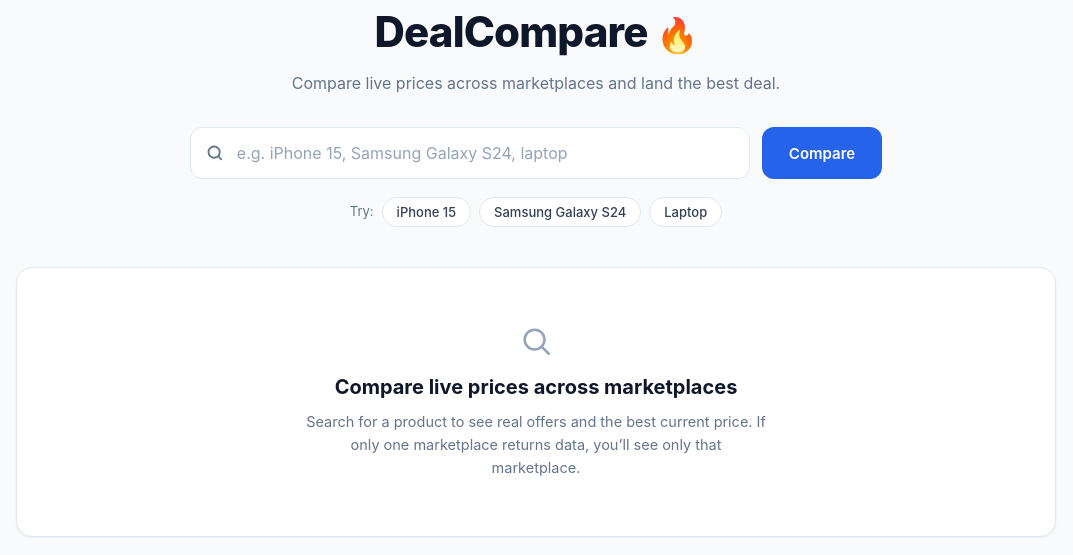
Scenario: Home results experience › shows the error state when the API request fails
Step 1. Type "iphone" into the field named "Search products" → (470, 153), box [190, 127, 750, 179]
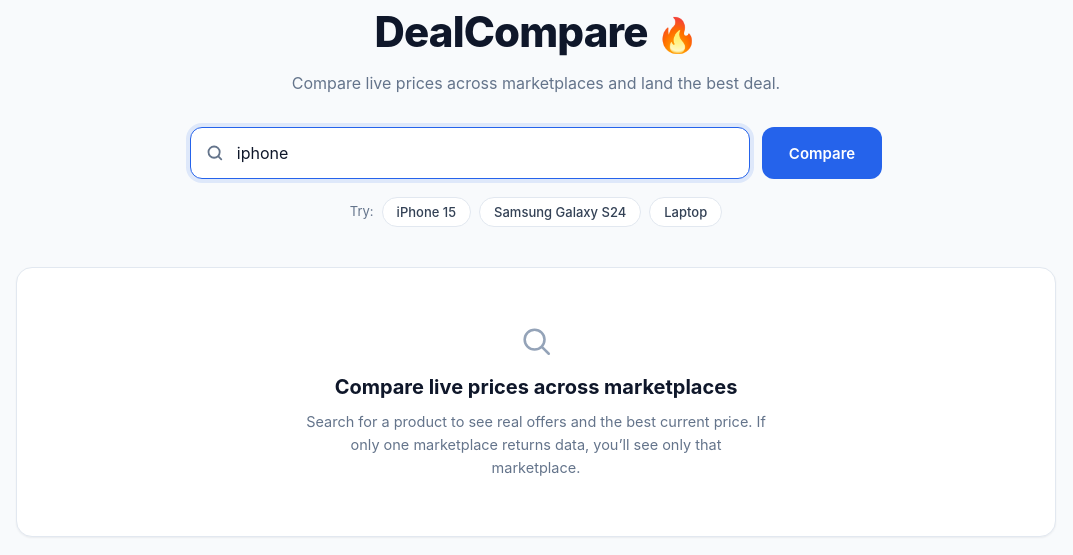
Step 2. Click the button "Compare" → (822, 153), box [762, 127, 882, 179]
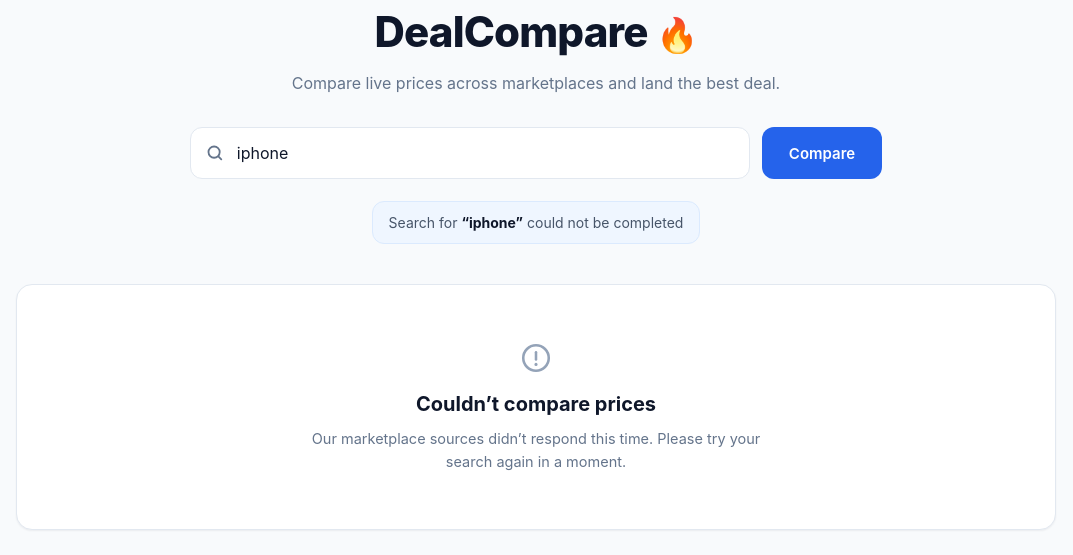
Result: the heading "Couldn’t compare prices" is shown at [416, 392, 656, 416]
